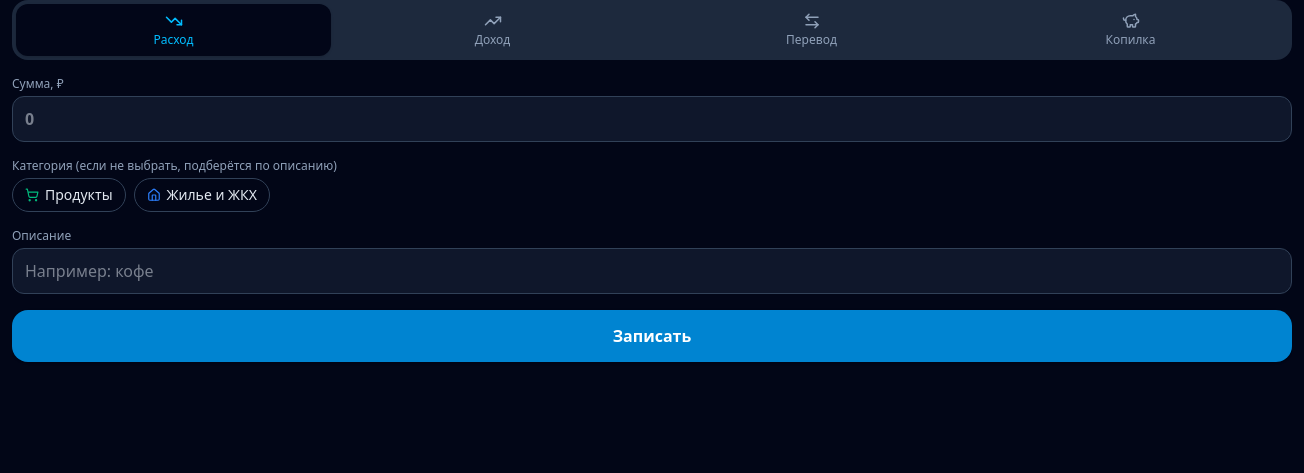
EntryForm (Mini App input) › can record a transfer given by someone else (e.g. a repayment from Boris)
The image size is (1304, 473).
Expected: the element named "Тип записи" is shown, [12,0,1292,60]
Click the tab "Перевод": x=812, y=30 [654,4,969,56]
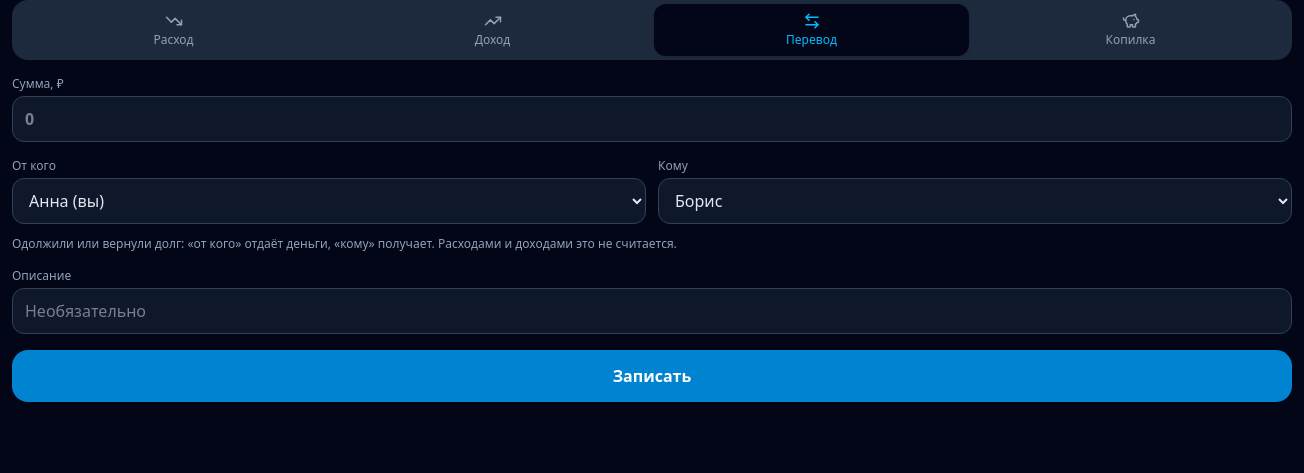
Select "Борис" in the dropdown labelled "От кого": x=329, y=201 [12,178,646,224]
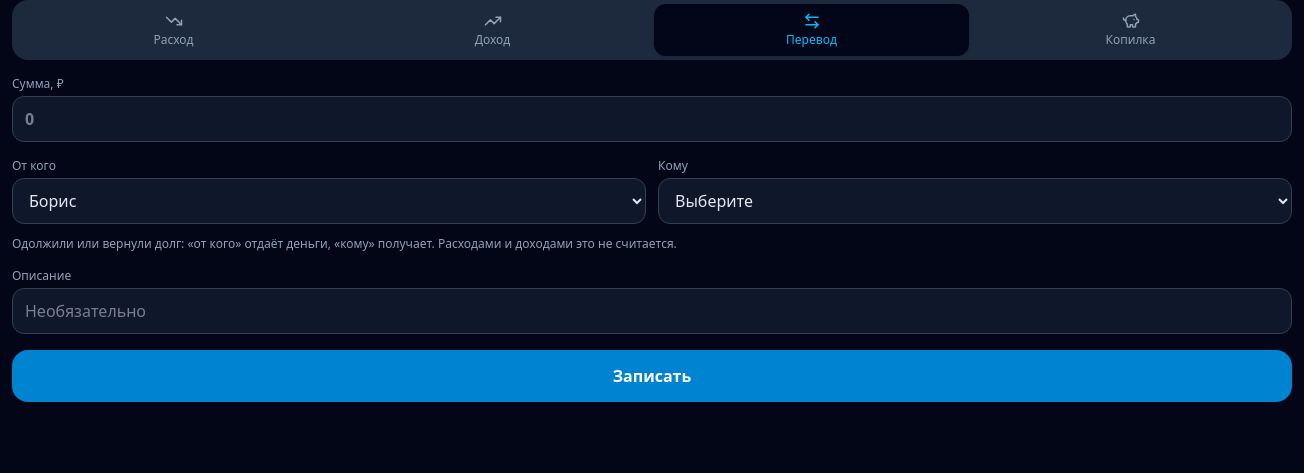
Select "Анна" in the dropdown labelled "Кому": x=975, y=201 [658,178,1292,224]
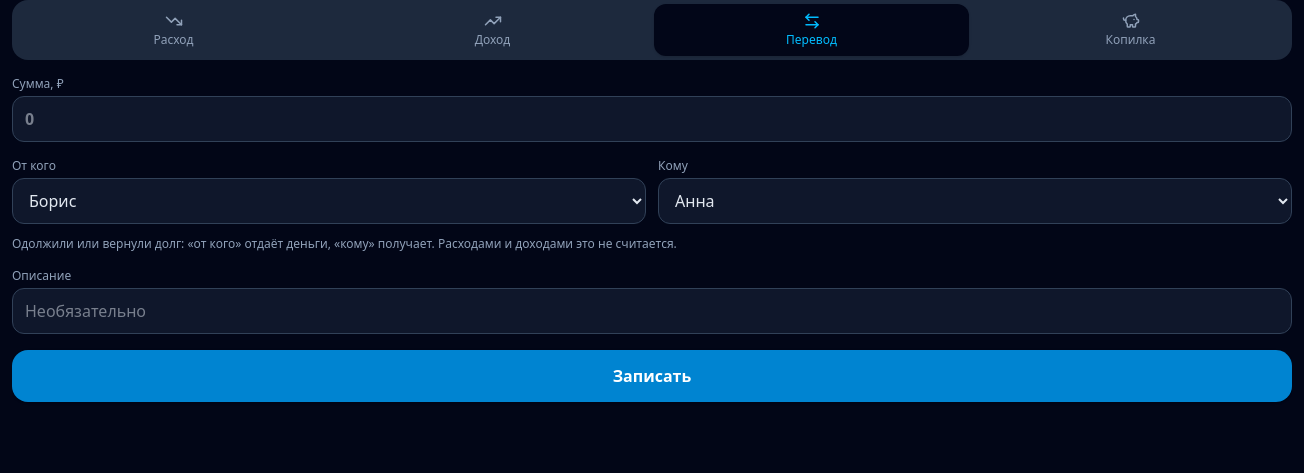
In the field labelled "Сумма, ₽": x=652, y=119 [12,96,1292,142], type "2000"
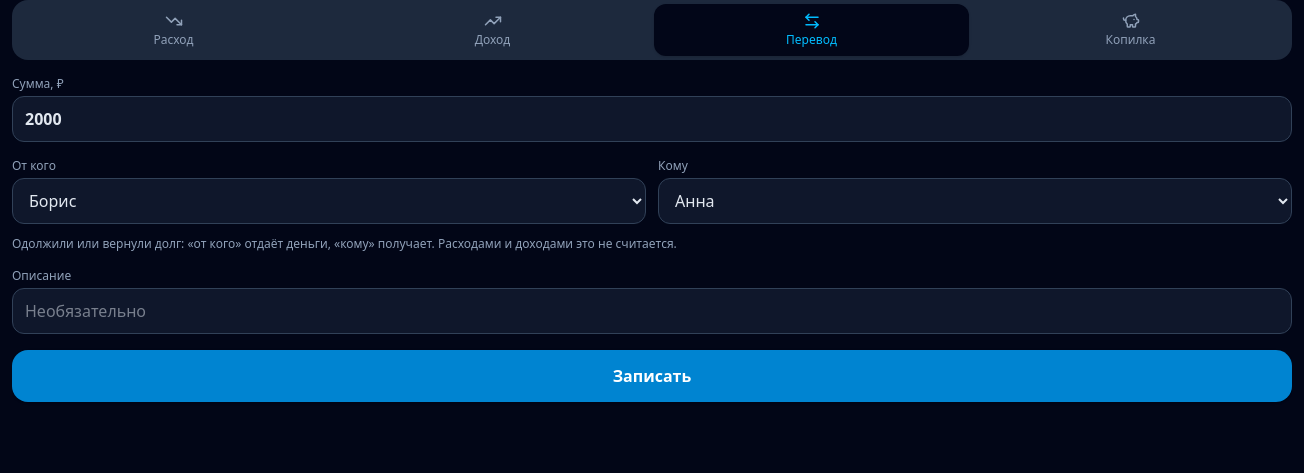
Click the button "Записать": x=652, y=376 [12,350,1292,402]
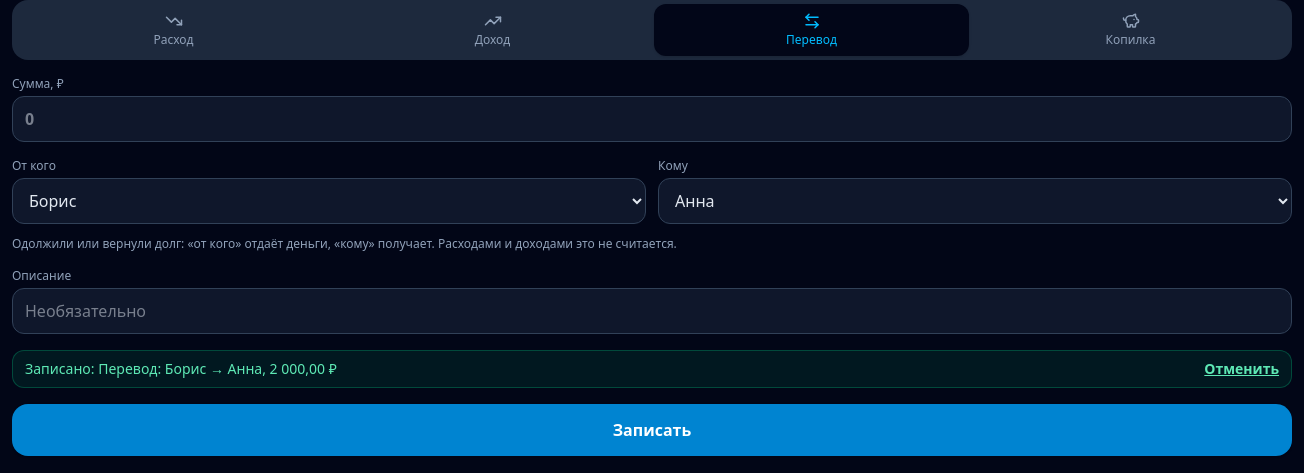
Result: the text "Записано: Перевод: Борис → Анна, 2 000,00 ₽" is shown at [25,359,337,379]
